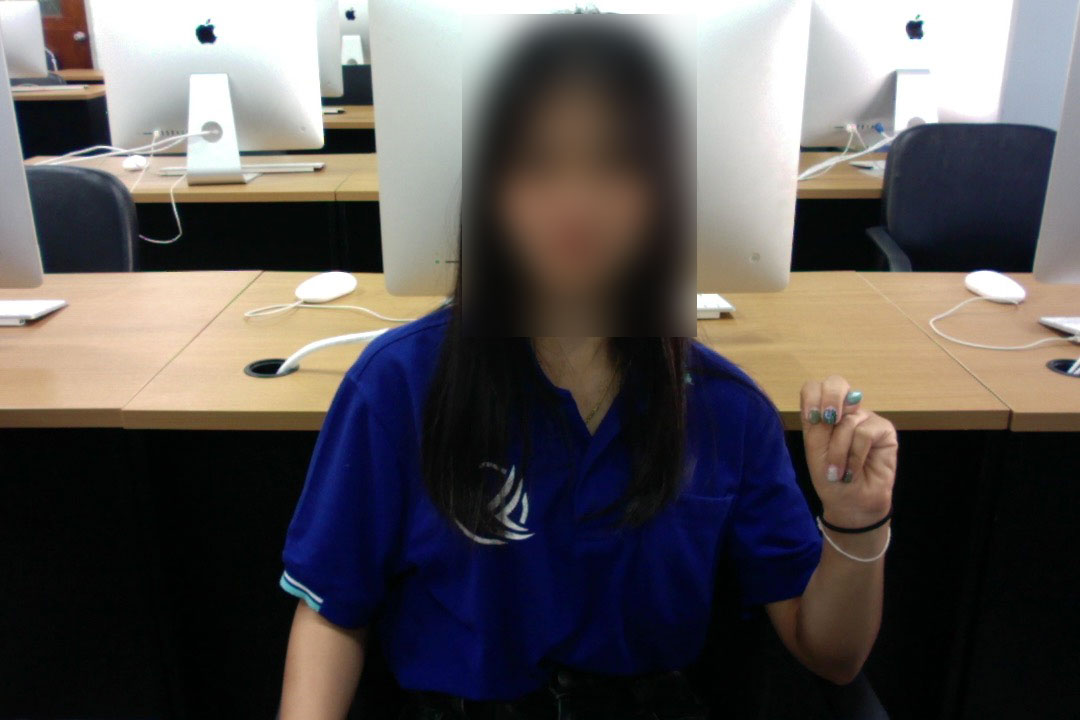nor: (792, 369, 902, 528)
